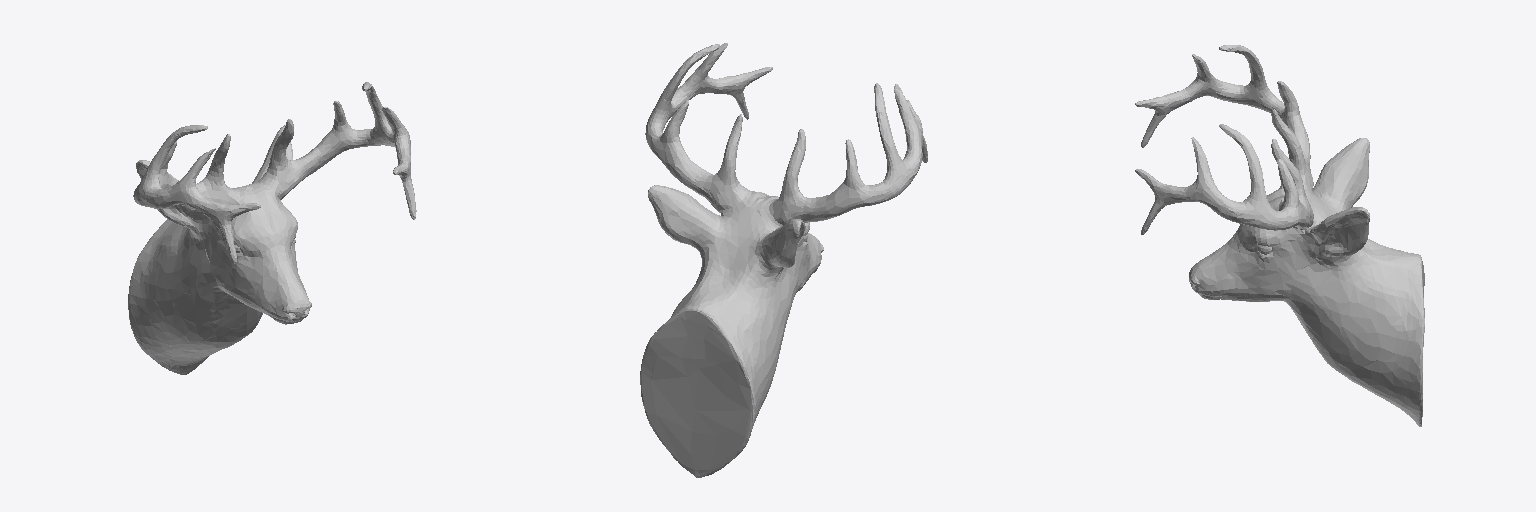
Rendered from mrdeer.obj.
3 renders of one model, left to right at view 1: azimuth 30°, elevation 25°; view 2: azimuth 150°, elevation 25°; view 3: azimuth 270°, elevation 25°, orthographic.
Parts seen in each view (by area): view 1: <STL_BINARY>; view 2: <STL_BINARY>; view 3: <STL_BINARY>.
Boxes of the visible parts, <box> form: <STL_BINARY>: <box>128,82,416,374</box>; <STL_BINARY>: <box>640,43,927,477</box>; <STL_BINARY>: <box>1135,45,1424,426</box>.
Size of the model in its own units: 2.78 by 3.5 by 2.7.